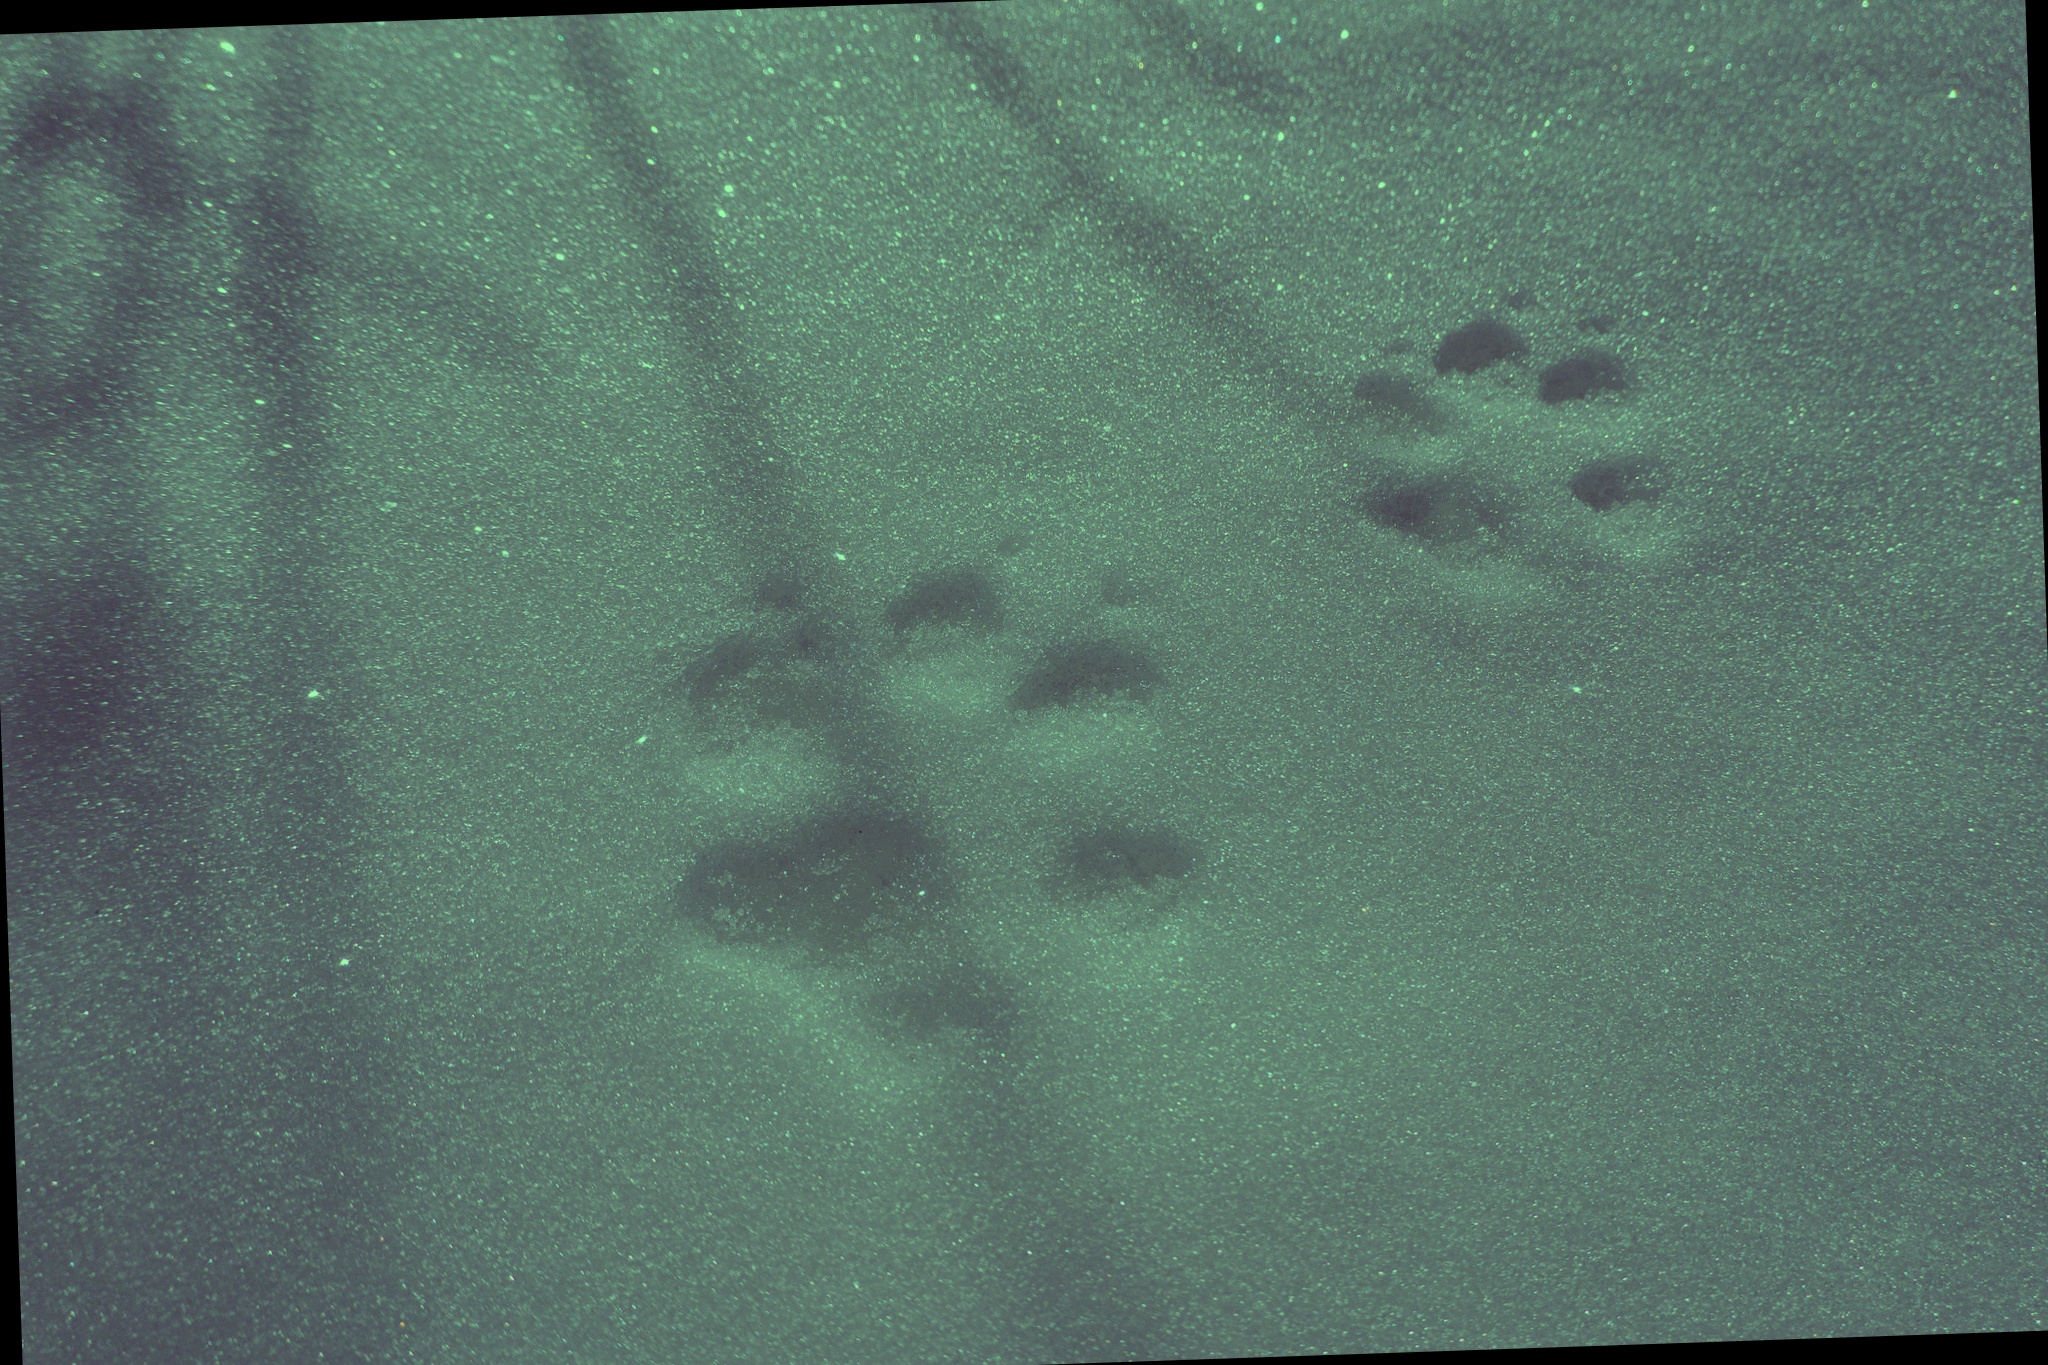loup: (585, 507, 1238, 1080), (1278, 261, 1736, 622)
